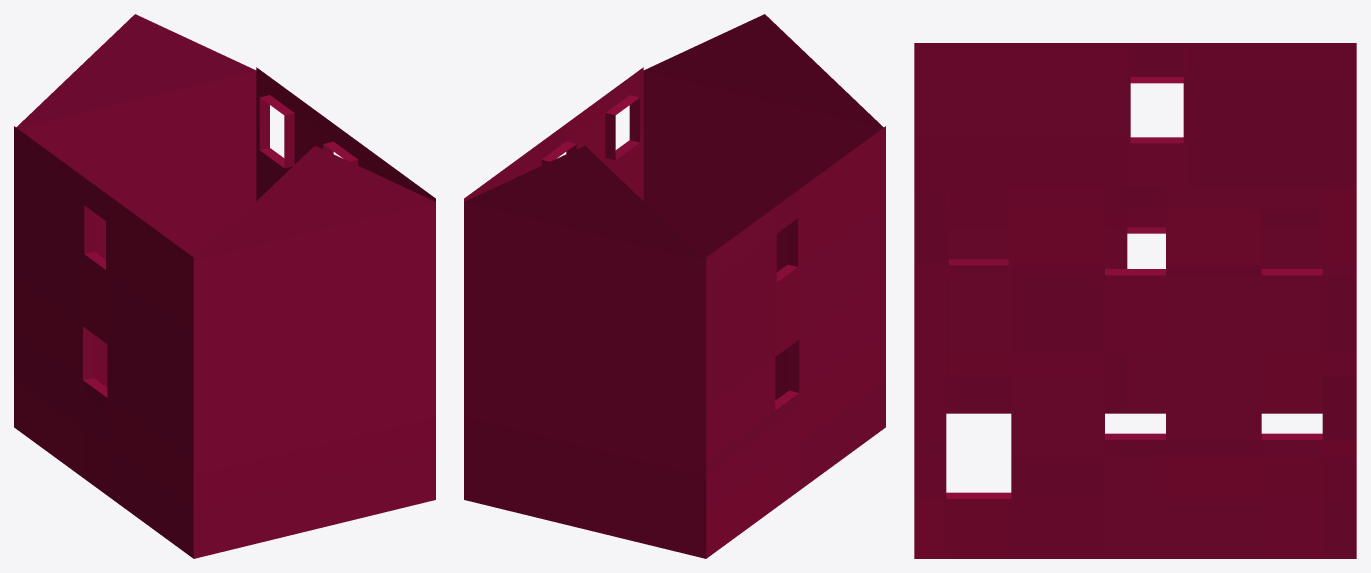
Rendered from SM_Bld_151_Masonry.glb.
The picture shows the model from 3 angles, left to right: view 1: azimuth 30°, elevation 25°; view 2: azimuth 150°, elevation 25°; view 3: azimuth 270°, elevation 25°; orthographic projection. The views are drawn at different scales.
Parts seen in each view (by area): view 1: SM_Bld_151_Masonry; view 2: SM_Bld_151_Masonry; view 3: SM_Bld_151_Masonry.
Part boxes in pixels (bbox=[...]): SM_Bld_151_Masonry: bbox=[14, 14, 435, 558]; SM_Bld_151_Masonry: bbox=[464, 14, 885, 558]; SM_Bld_151_Masonry: bbox=[914, 43, 1356, 558].
Bounding box in the file's own units: 5.19 × 7.86 × 6.67.
